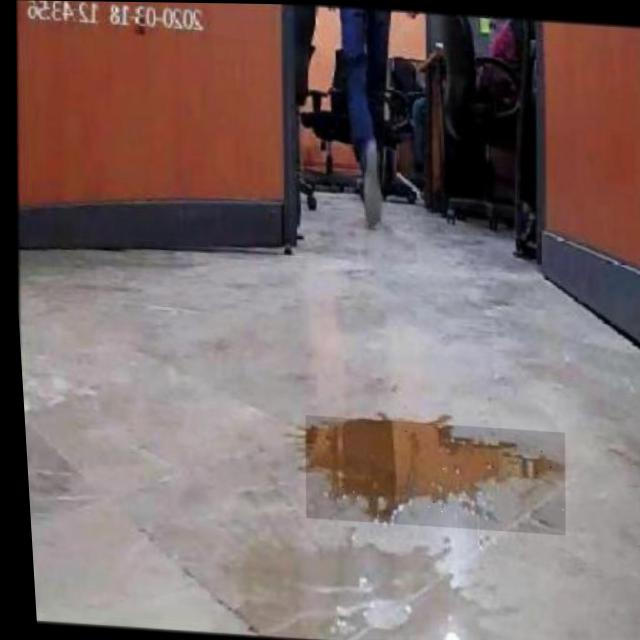spillage: (300, 418, 559, 522)
